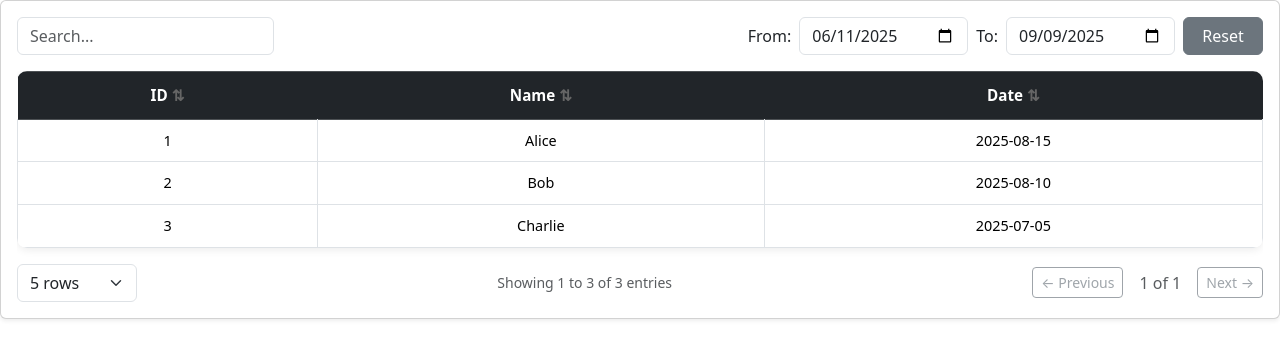
it: DataTable › filters data with search
The image size is (1280, 338).
Type "Bob" into the field with placeholder "Search..." at point(146, 36), box 17,17 -> 274,55
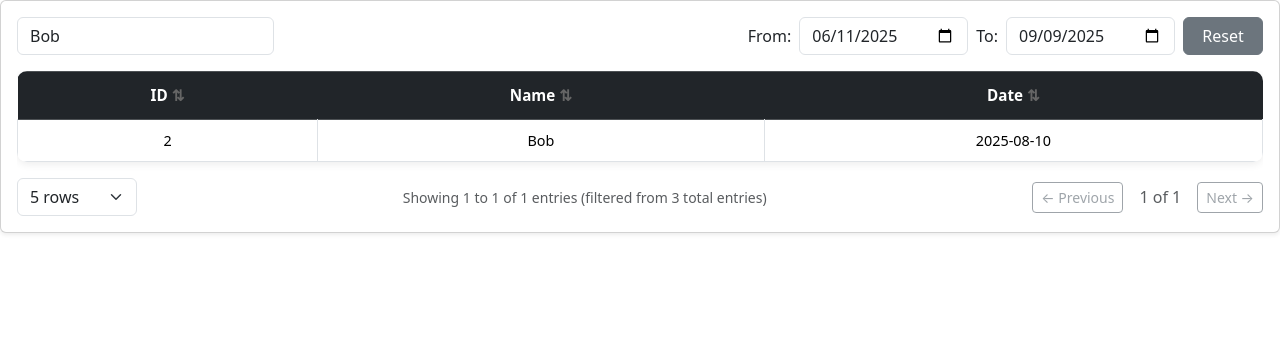
Expected: the text "Bob" is shown, 318,119 -> 764,162
Expected: the text "Alice" is gone
